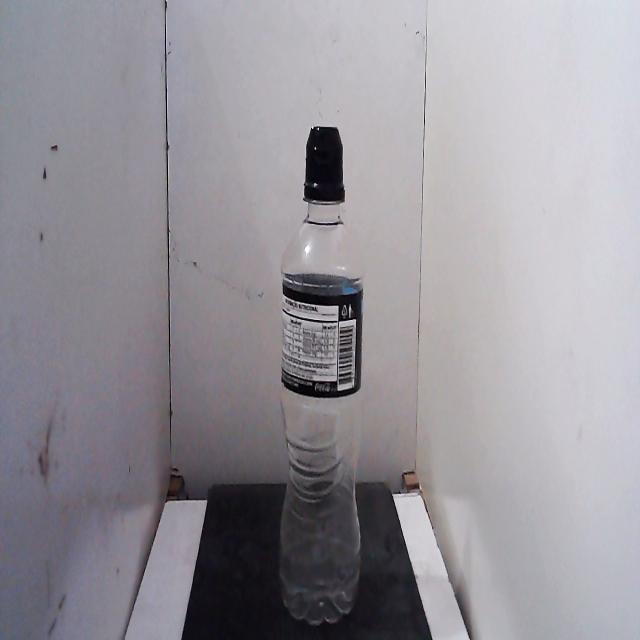plastico: (273, 114, 371, 633)
